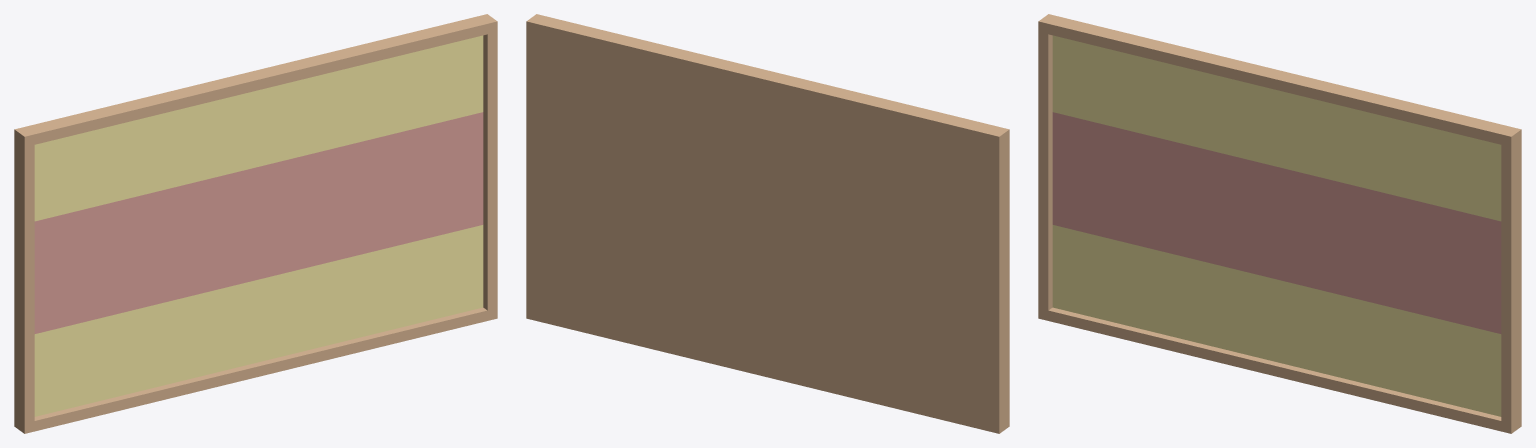
File: picture8.fbx
3 renders of one model, left to right at view 1: azimuth 30°, elevation 25°; view 2: azimuth 150°, elevation 25°; view 3: azimuth 330°, elevation 25°, orthographic.
Visible parts, largest first — view 1: Cube_24; view 2: Cube_24; view 3: Cube_24.
Boxes of the visible parts, x1=… form: Cube_24: x1=14, y1=14, x2=497, y2=433; Cube_24: x1=526, y1=14, x2=1009, y2=433; Cube_24: x1=1038, y1=14, x2=1521, y2=433.
Size of the model in its own units: 42.49 by 25.51 by 1.58.
